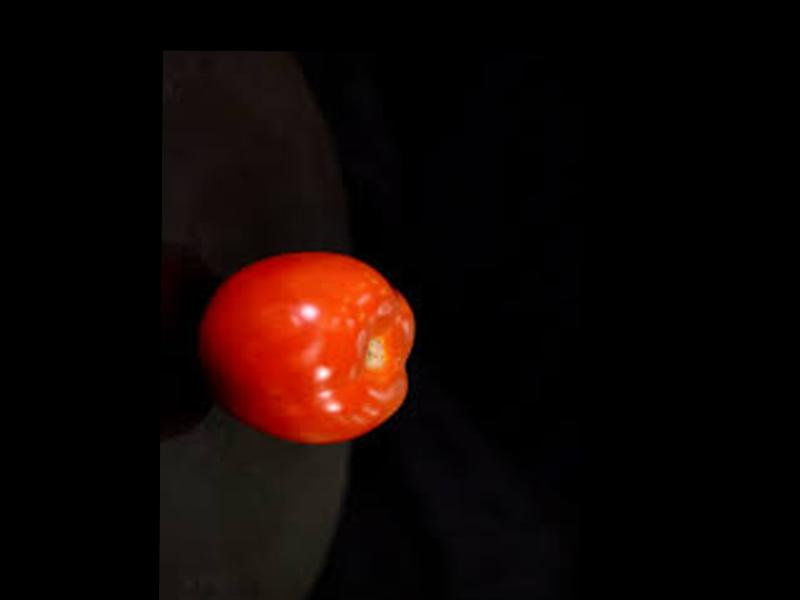Tomato: (197, 248, 418, 445)
